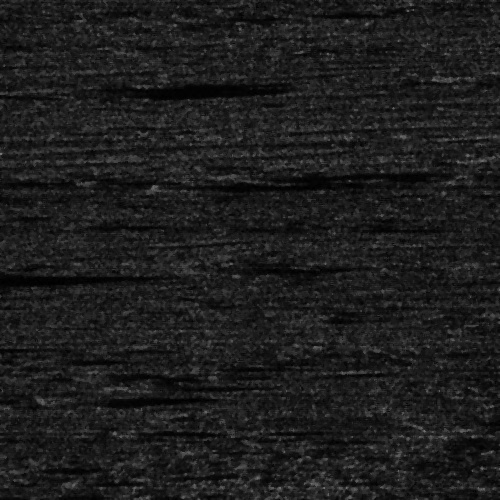rock: (0, 80, 142, 97), (39, 347, 80, 368), (223, 169, 254, 186), (40, 395, 113, 402), (110, 382, 173, 387), (468, 309, 500, 314)
shadow: (44, 80, 241, 97), (239, 169, 397, 186), (0, 271, 137, 282), (77, 395, 192, 402), (142, 382, 260, 387), (60, 347, 82, 368), (0, 179, 46, 184), (0, 345, 40, 350)
